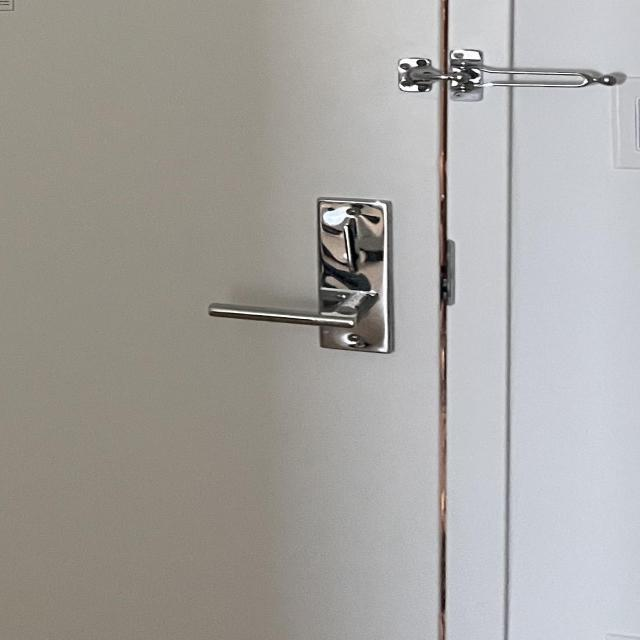door_handle: (186, 280, 404, 348)
